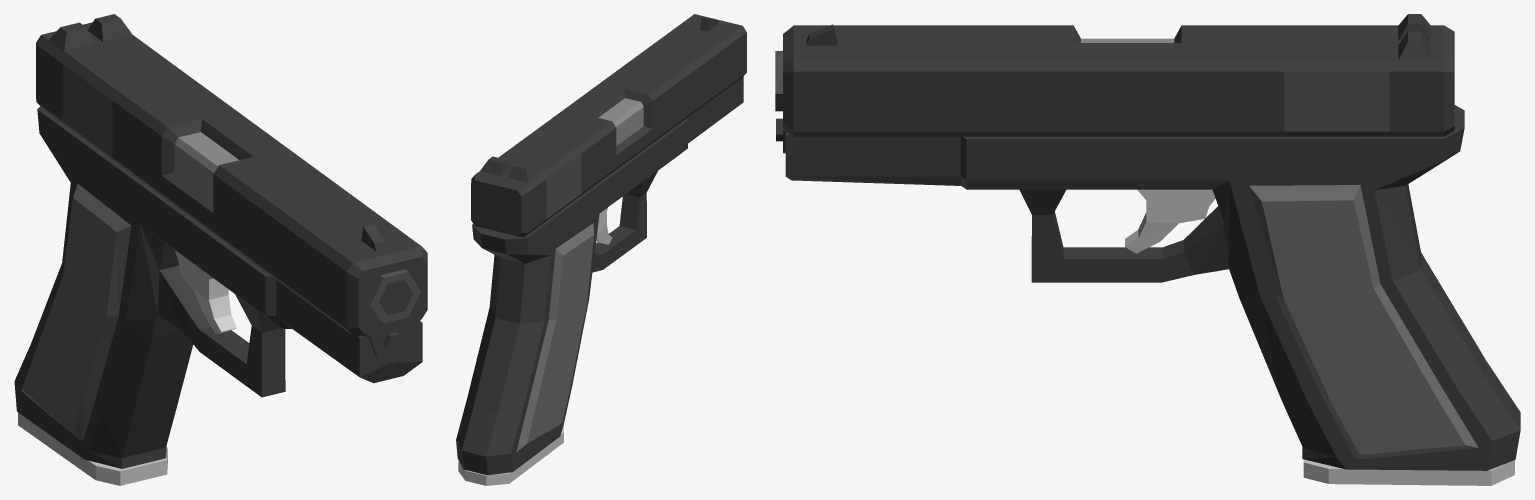
Rendered from gun.obj.
The picture shows the model from 3 angles, left to right: view 1: azimuth 30°, elevation 25°; view 2: azimuth 150°, elevation 25°; view 3: azimuth 270°, elevation 25°; orthographic projection. The views are drawn at different scales.
Visible parts, largest first — view 1: gun.obj; view 2: gun.obj; view 3: gun.obj.
Part boxes in pixels (x1,y1,x2,y2): gun.obj: (14, 14, 427, 485); gun.obj: (456, 14, 746, 485); gun.obj: (775, 14, 1520, 485).
Bounding box in the file's own units: 0.0739 × 0.3173 × 0.4865.
